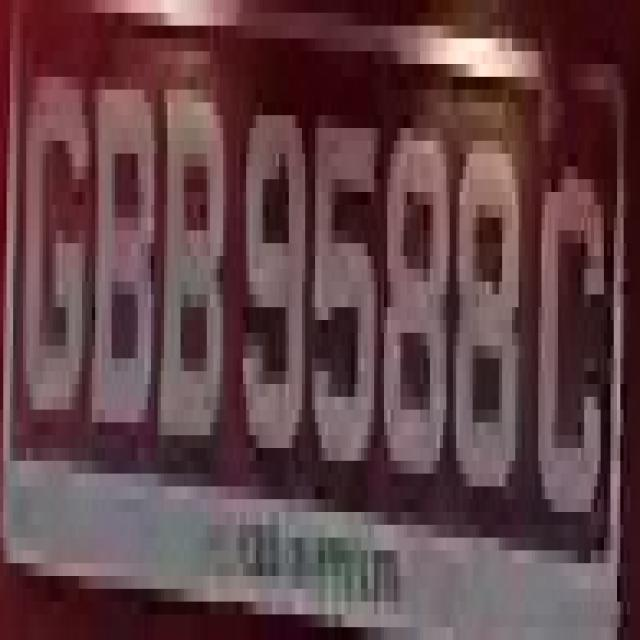5: (302, 90, 377, 487)
8: (377, 90, 453, 524), (459, 115, 532, 538)
9: (240, 90, 308, 460)
B: (86, 13, 158, 461), (161, 77, 233, 461)
C: (525, 115, 611, 538)
G: (26, 51, 89, 435)
